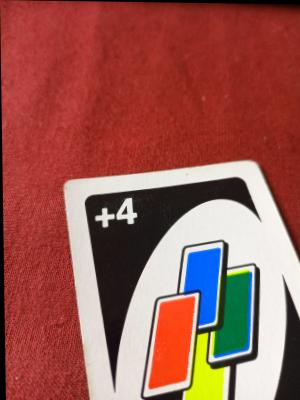wild-4: (63, 160, 300, 400), (88, 195, 148, 236)
